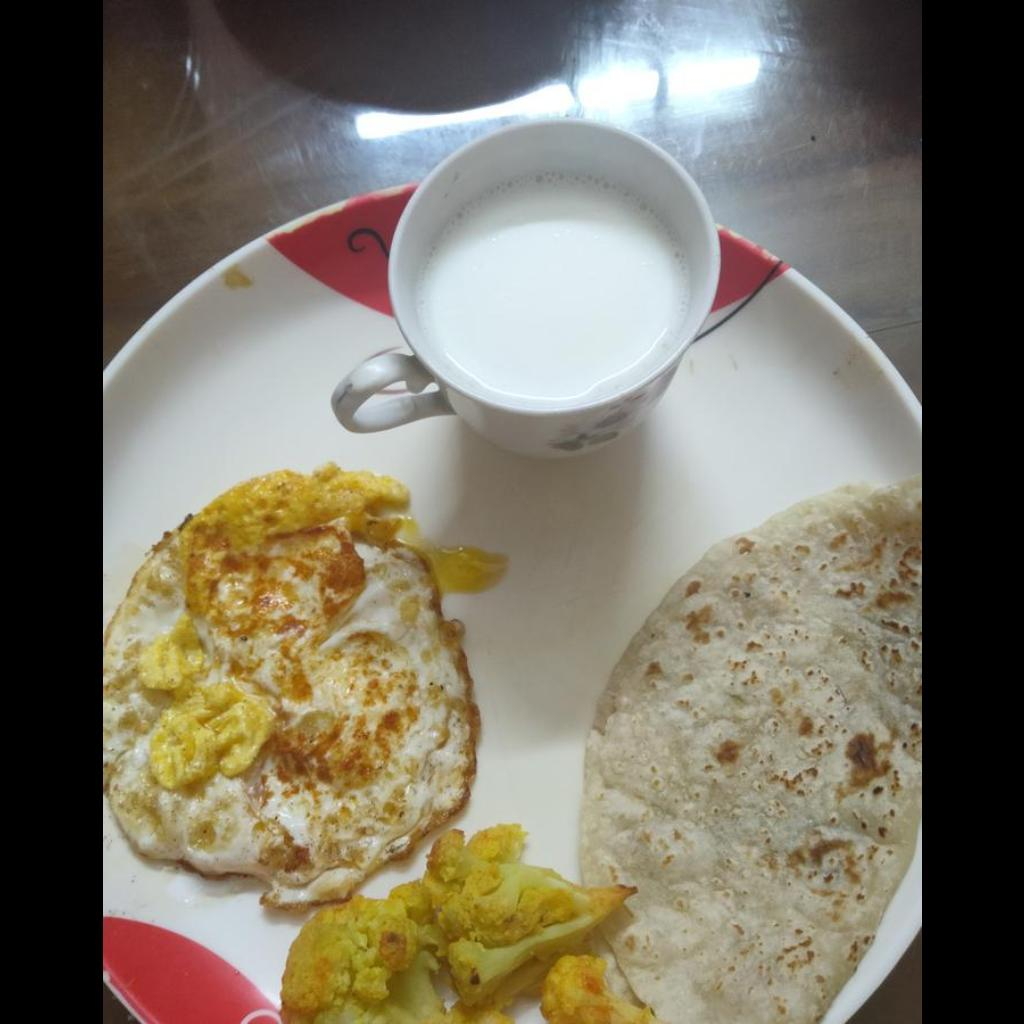cauliflower: (276, 823, 645, 1022)
egg-poached: (103, 468, 477, 905)
milk: (414, 175, 673, 405)
ruti: (575, 479, 920, 1023)
